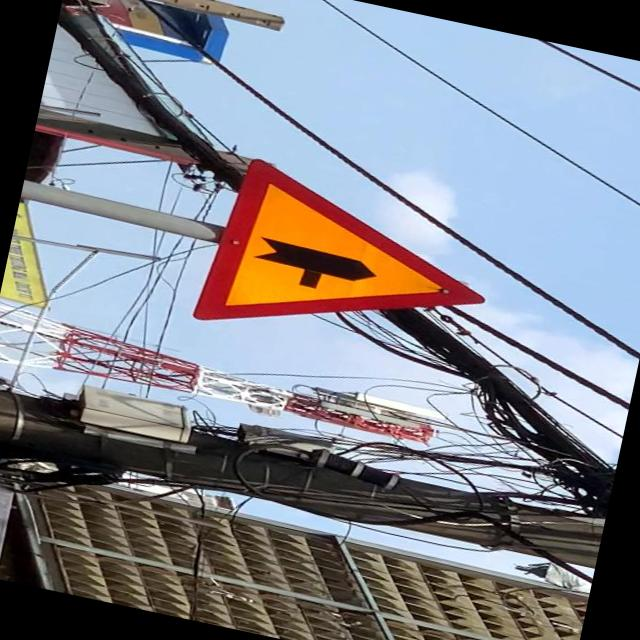W-207b: (189, 155, 505, 378)
